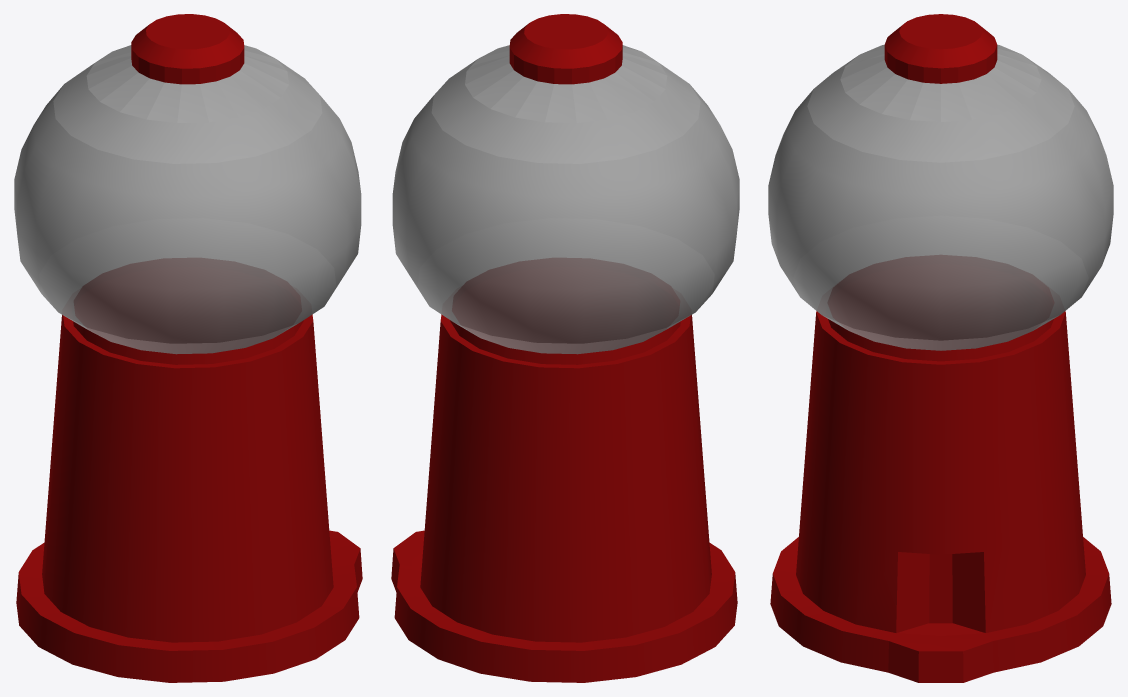
File: GumballTest.fbx
The picture shows the model from 3 angles, left to right: view 1: azimuth 30°, elevation 25°; view 2: azimuth 150°, elevation 25°; view 3: azimuth 270°, elevation 25°; orthographic projection.
Visible parts, largest first — view 1: pCylinder91; view 2: pCylinder91; view 3: pCylinder91.
Part boxes in pixels (x1=…): pCylinder91: x1=14, y1=14, x2=362, y2=682; pCylinder91: x1=391, y1=14, x2=739, y2=682; pCylinder91: x1=768, y1=14, x2=1113, y2=682.
Bounding box in the file's own units: 75.95 × 134 × 72.97.
